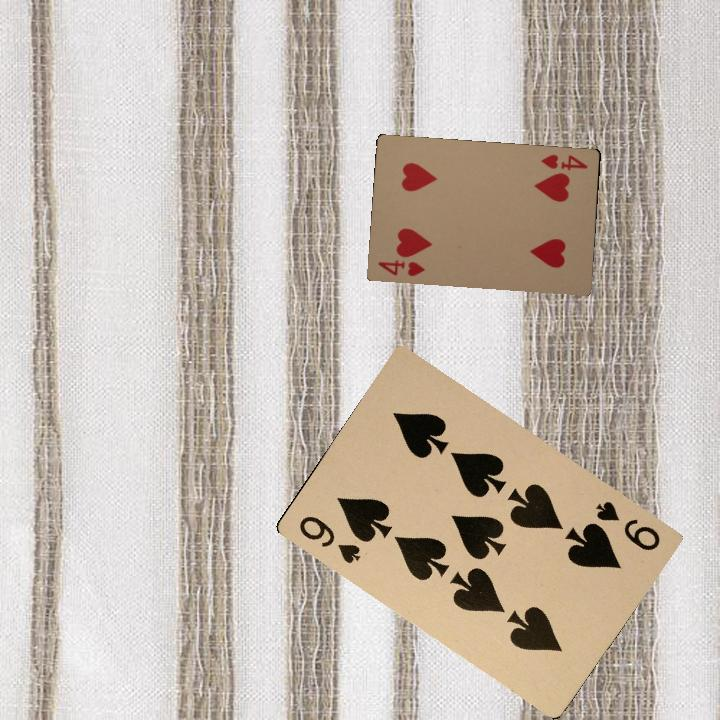4h: (374, 256, 429, 279), (537, 150, 590, 173)
9s: (591, 496, 663, 554), (294, 511, 364, 567)
